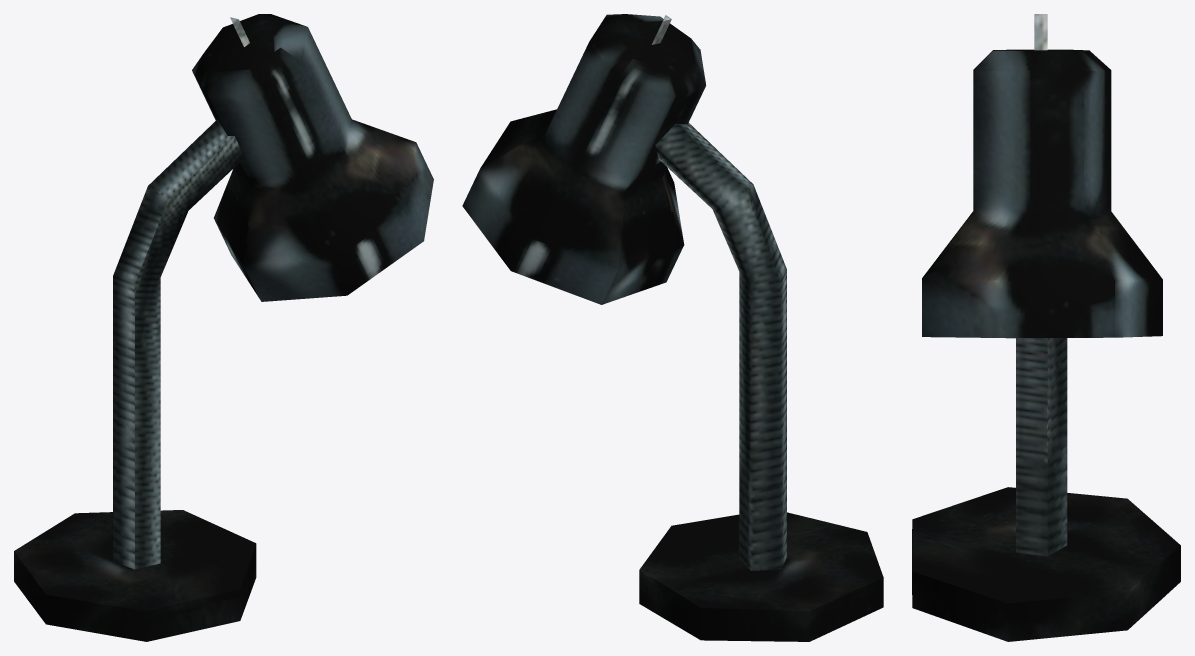
File: Lamp_01-col.glb
3 views of the same model, side by side, from view 1: azimuth 30°, elevation 25°; view 2: azimuth 150°, elevation 25°; view 3: azimuth 270°, elevation 25° (orthographic). The views are drawn at different scales.
Parts seen in each view (by area): view 1: Lamp_01-col; view 2: Lamp_01-col; view 3: Lamp_01-col.
Boxes of the visible parts, x1,y1,x2,y2 form: Lamp_01-col: (14,14,433,641); Lamp_01-col: (462,14,883,641); Lamp_01-col: (912,14,1180,641).
Size of the model in its own units: 0.4752 by 0.6448 by 0.2515.
1 material, 1 textured.
